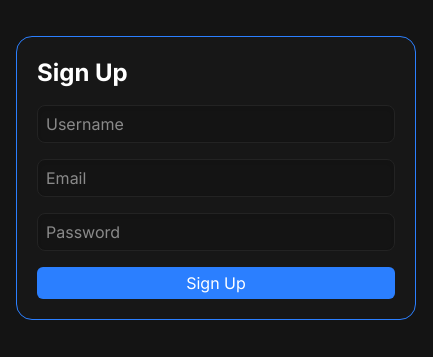
Test case: SignUp › should return API error if one occured during fetching
Type "testUsername" into the field with placeholder "Username" at (216, 124), box [46,114,386,134]
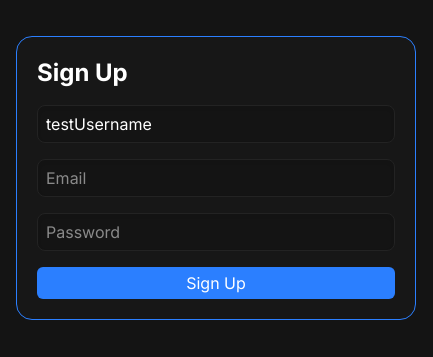
Type "testEmail@gmail.com" into the field with placeholder "Email" at (216, 178), box [46,168,386,188]
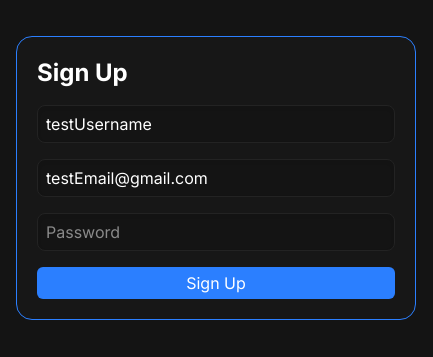
Type "testPassword1" into the password field with placeholder "Password" at (216, 232), box [46,222,386,242]
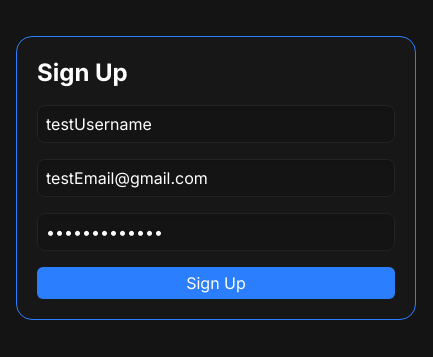
Click the button at (216, 283), box [37,267,395,299]
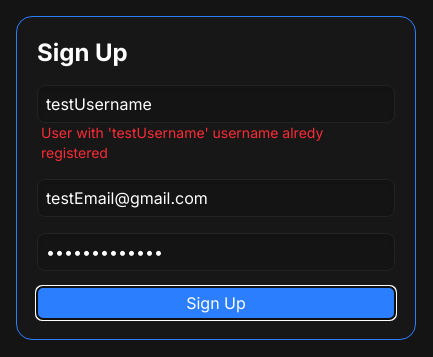
Expected: the text "User with 'testUsername' username alredy registered" is shown, [41,124,323,161]
